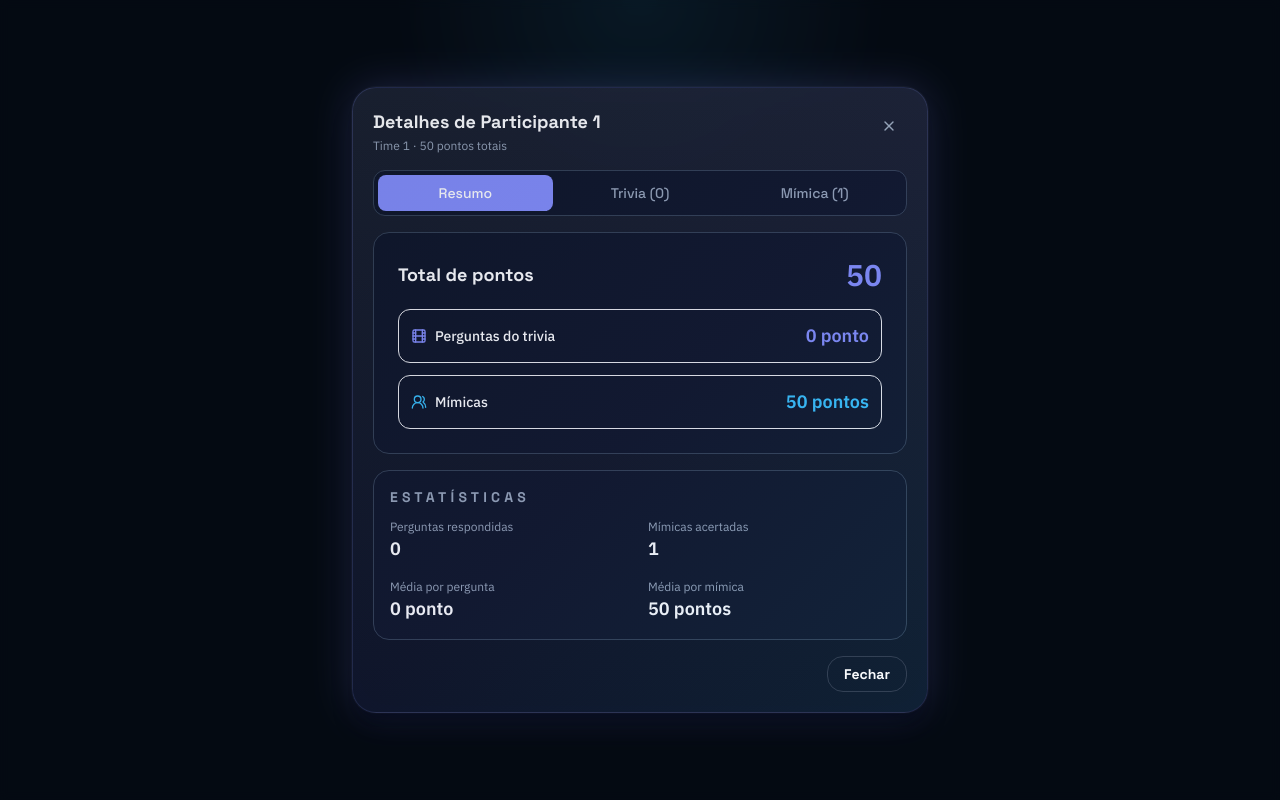
Test: ScoreDetailView › deve mostrar targetTeam no modo steal
The width and height of the screenshot is (1280, 800).
Click the button "Mímica (1)". click: click(815, 193)
box: [727,175,902,211]
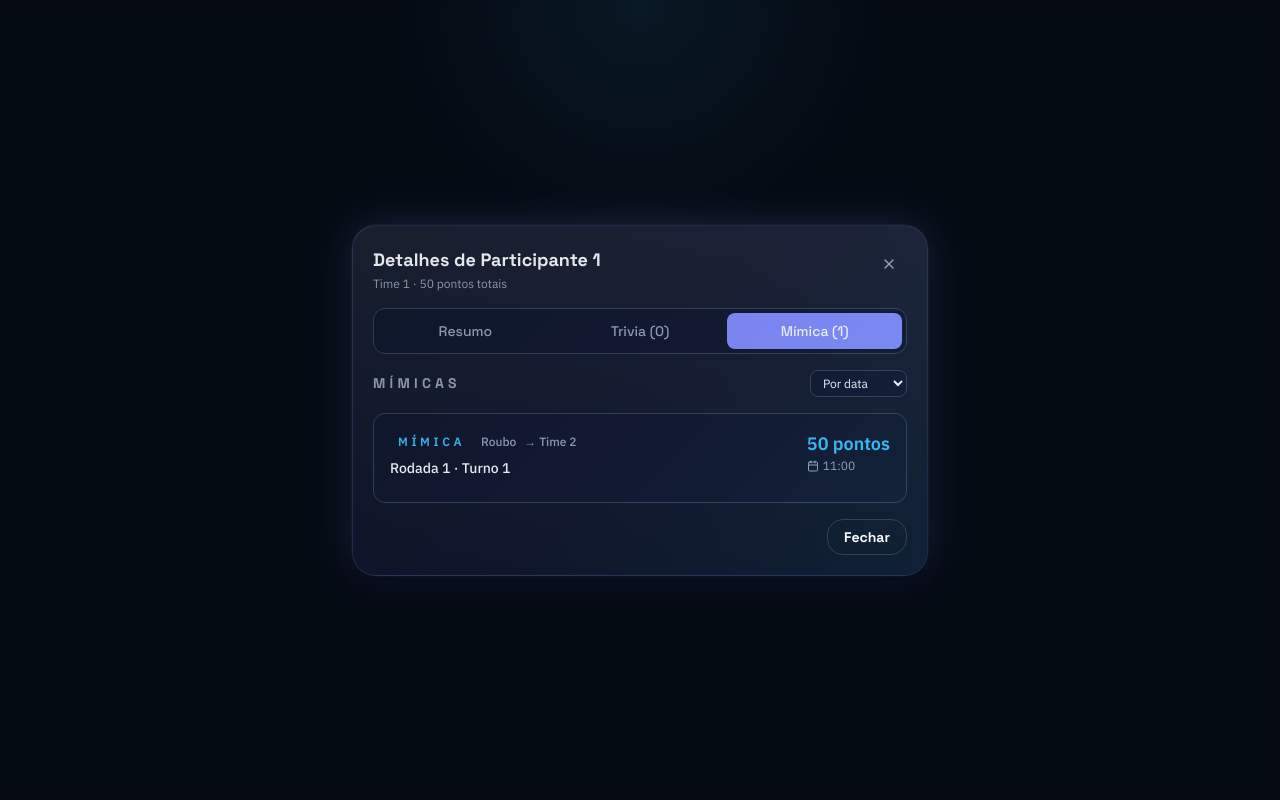
expect the text "→ Time 2" is shown: met, box [524,434,576,450]
